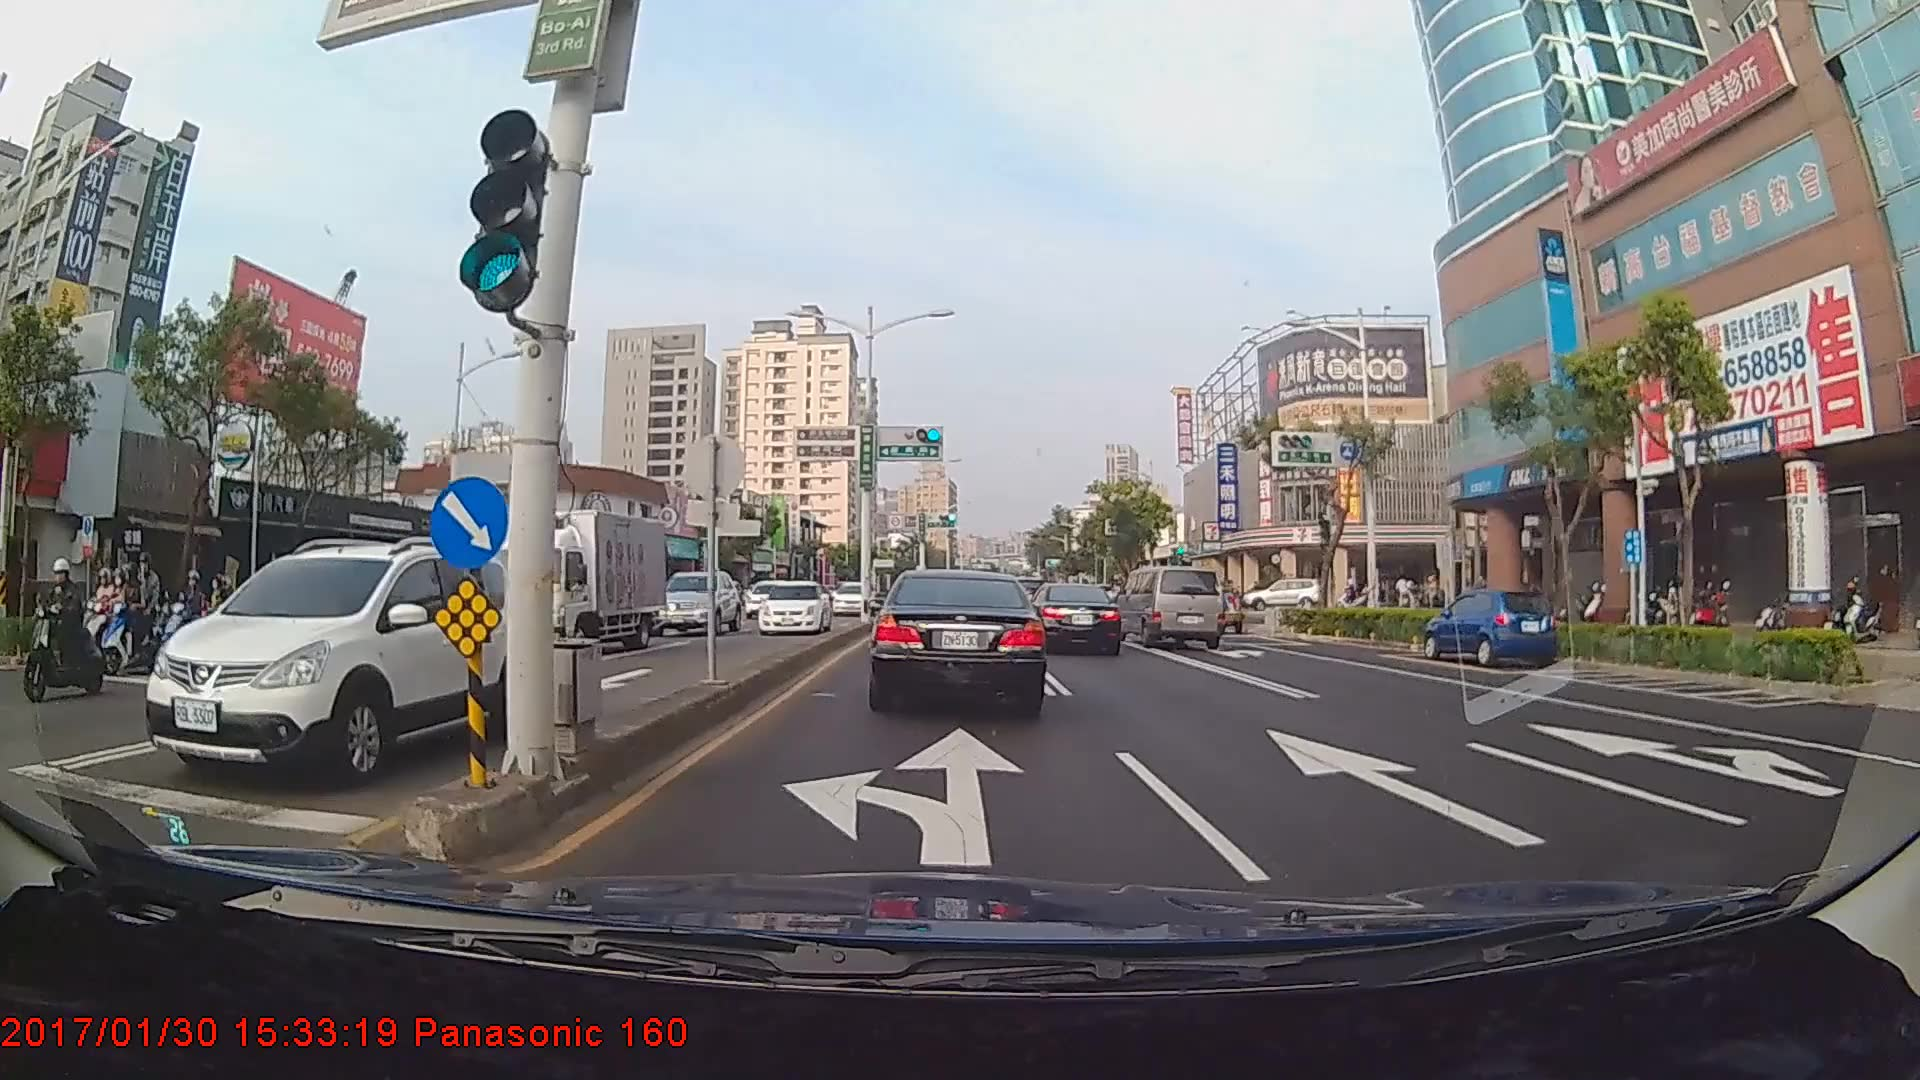rider: (15, 559, 118, 707), (91, 555, 178, 676)
vehicle: (156, 536, 501, 778), (872, 563, 1046, 713), (495, 509, 666, 658), (1419, 584, 1558, 668), (1119, 566, 1228, 650), (1030, 583, 1121, 654), (646, 568, 738, 636), (752, 575, 827, 636), (1242, 577, 1318, 612), (742, 580, 791, 618), (830, 576, 867, 617)
